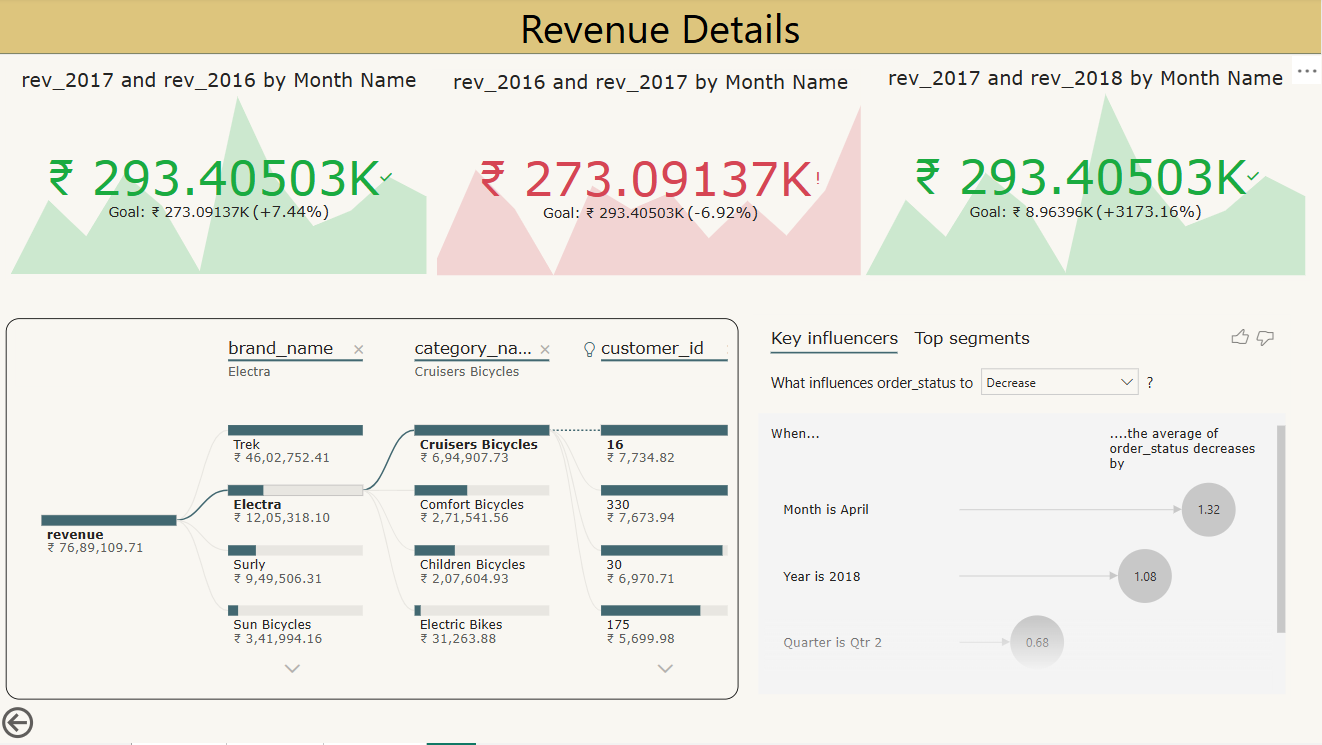

The page's visual inventory and layout, read from the dashboard file:
{"tool":"powerbi","page":{"name":"Page 2","canvas":[1280,720],"ordinal":1},"visuals":[{"type":"kpi","fields":{"Goal":["Table.rev_2016"],"Indicator":["Table.rev_2017"],"TrendLine":["order.Month Name"]},"box":[8.4,68.8,411.4,203.9],"z":0},{"type":"kpi","fields":{"Goal":["Table.rev_2017"],"Indicator":["Table.rev_2016"],"TrendLine":["order.Month Name"]},"box":[419.8,70,422.3,203.9],"z":1000},{"type":"kpi","fields":{"Goal":["Table.rev_2018"],"Indicator":["Table.rev_2017"],"TrendLine":["order.Month Name"]},"box":[833.7,66.4,434.3,207.5],"z":2000},{"type":"actionButton","box":[0,680.4,44.6,39.8],"z":3000},{"type":"shape","box":[0,0,1280,55.5],"z":4000},{"type":"decompositionTreeVisual","fields":{"Analyze":["Table.revenue"],"ExplainBy":["Brands.brand_name","category.category_name","customer.customer_id"]},"box":[8.4,310.1,707,368],"z":5000},{"type":"keyDriversVisual","fields":{"Target":["order.order_status"],"ExplainBy":["order.required_date.Variation.Date Hierarchy.Year","order.required_date.Variation.Date Hierarchy.Quarter","order.required_date.Variation.Date Hierarchy.Month","order.required_date.Variation.Date Hierarchy.Day"]},"box":[729.9,306.4,518.8,371.6],"z":6000}]}

Visuals, with their boxes in screenshot pixels (x1, y1, x2, y2), scaled from the page's 1280x720 canvas onto the 1322x745 screenshot:
kpi - Table.rev_2016 x Table.rev_2017: x1=9 y1=71 x2=434 y2=282
kpi - Table.rev_2017 x Table.rev_2016: x1=434 y1=72 x2=870 y2=283
kpi - Table.rev_2018 x Table.rev_2017: x1=861 y1=69 x2=1310 y2=283
actionButton: x1=0 y1=704 x2=46 y2=744
shape: x1=0 y1=0 x2=1321 y2=57
decompositionTreeVisual - Table.revenue x Brands.brand_name: x1=9 y1=321 x2=739 y2=702
keyDriversVisual - order.order_status x order.required_date.Variation.Date Hierarchy.Year: x1=754 y1=317 x2=1290 y2=702
